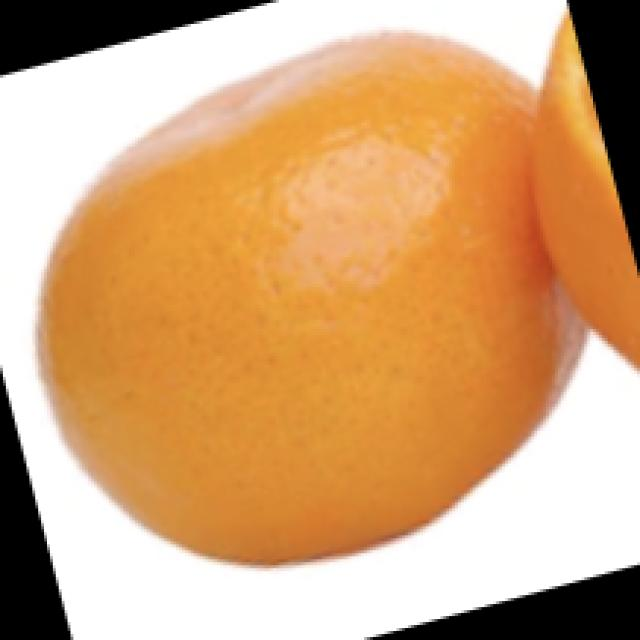matang: (41, 31, 591, 559), (533, 13, 637, 365)
